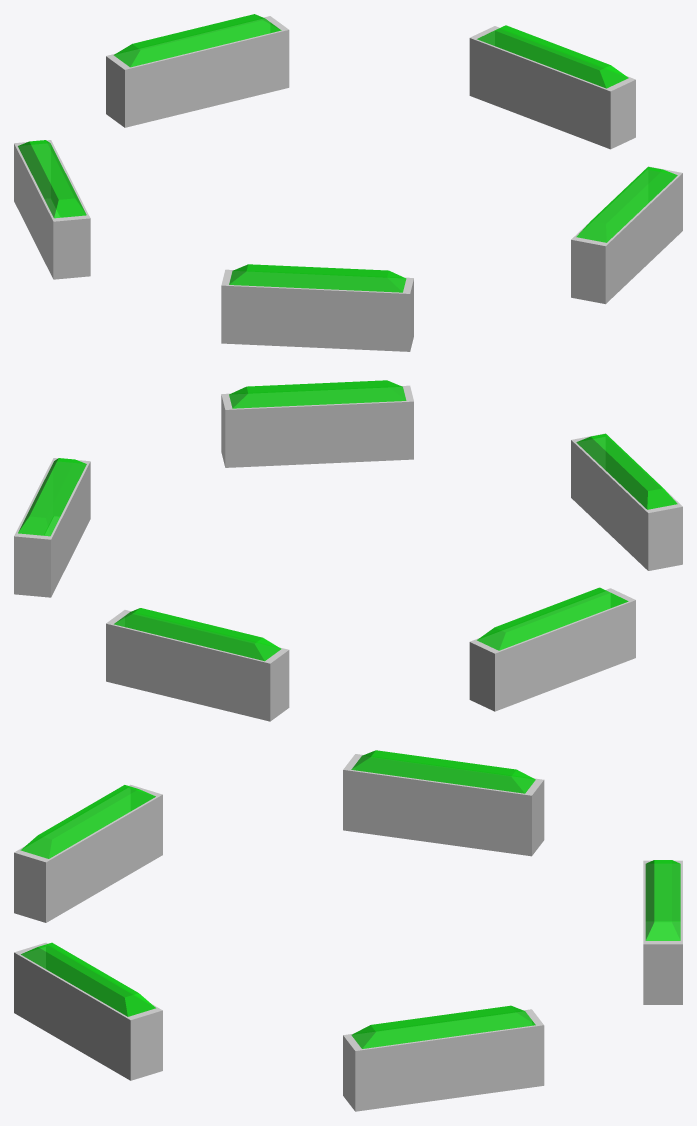
The model's file is PieceRessources.fbx.
The picture shows the model from 3 angles, top to bottom: view 1: azimuth 30°, elevation 25°; view 2: azimuth 150°, elevation 25°; view 3: azimuth 270°, elevation 25°; orthographic projection. The views are drawn at different scales.
Visible parts, largest first — view 1: TypePiece1, TypePiece3, TypePiece4, TypePiece5, TypePiece2; view 2: TypePiece5, TypePiece3, TypePiece2, TypePiece1, TypePiece4; view 3: TypePiece4, TypePiece2, TypePiece1, TypePiece5, TypePiece3.
Boxes of the visible parts, left/top/right/bottom form: TypePiece1: left=221, top=264, right=413, bottom=351; TypePiece3: left=106, top=14, right=289, bottom=127; TypePiece4: left=469, top=25, right=635, bottom=149; TypePiece5: left=571, top=166, right=682, bottom=304; TypePiece2: left=14, top=140, right=90, bottom=279; TypePiece5: left=221, top=380, right=413, bottom=467; TypePiece3: left=106, top=608, right=289, bottom=721; TypePiece2: left=469, top=587, right=635, bottom=711; TypePiece1: left=571, top=433, right=682, bottom=570; TypePiece4: left=14, top=458, right=90, bottom=597; TypePiece4: left=343, top=1005, right=544, bottom=1111; TypePiece2: left=343, top=750, right=544, bottom=856; TypePiece1: left=14, top=784, right=162, bottom=922; TypePiece5: left=14, top=942, right=162, bottom=1080; TypePiece3: left=643, top=860, right=682, bottom=1004.
Size of the model in its own units: 1.77 by 1.68 by 0.2.
